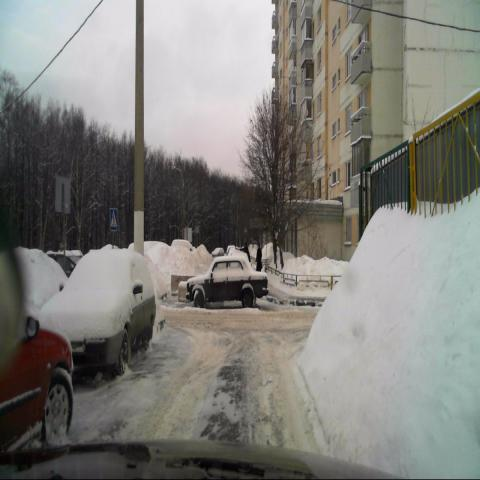5_19_1: (109, 208, 117, 229)
